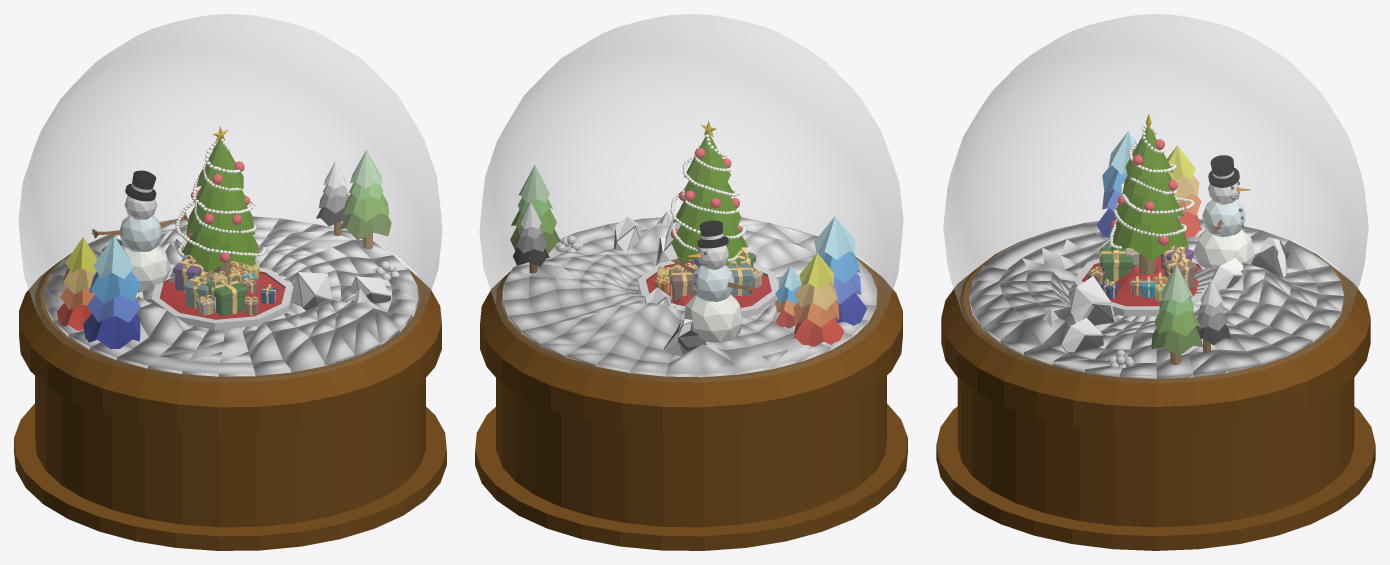
Rendered from hey.gltf.
3 renders of one model, left to right at view 1: azimuth 30°, elevation 25°; view 2: azimuth 150°, elevation 25°; view 3: azimuth 270°, elevation 25°, orthographic.
Visible parts, largest first — view 1: Sphere, Cylinder.002, Circle, Cone.021, Cylinder.001, Circle.1007, Cylinder.004, Cone.010, Circle.1010, Circle.1011, Cone.016, Circle.1013 (+7 smaller); view 2: Sphere, Cylinder.002, Circle, Cylinder.001, Cone.010, Cone.021, Cylinder.004, Circle.1007, Cone.016, Circle.1011, Circle.1013, Circle.1010 (+6 smaller); view 3: Sphere, Cylinder.002, Circle, Cylinder.001, Cylinder.004, Circle.1007, Circle.1010, Cone.021, Cone.010, Icosphere.015, Circle.1011, Cone.016 (+8 smaller).
Part boxes in pixels (x1,y1,x2,y2): Sphere: [18, 14, 442, 382]; Cylinder.002: [14, 236, 446, 550]; Circle: [44, 216, 419, 376]; Cone.021: [83, 236, 141, 349]; Cylinder.001: [91, 170, 188, 292]; Circle.1007: [151, 264, 293, 329]; Cylinder.004: [339, 149, 391, 249]; Cone.010: [57, 237, 97, 330]; Circle.1010: [182, 231, 258, 271]; Circle.1011: [186, 202, 254, 244]; Cone.016: [316, 161, 348, 235]; Circle.1013: [196, 138, 243, 195]; Sphere: [479, 14, 903, 382]; Cylinder.002: [475, 227, 907, 550]; Circle: [502, 214, 877, 377]; Cylinder.001: [671, 220, 754, 342]; Cone.010: [793, 253, 844, 346]; Cone.021: [814, 216, 867, 325]; Cylinder.004: [510, 165, 560, 254]; Circle.1007: [638, 259, 778, 317]; Cone.016: [513, 202, 549, 273]; Circle.1011: [672, 196, 741, 237]; Circle.1013: [684, 132, 730, 188]; Circle.1010: [671, 224, 747, 265]; Sphere: [943, 14, 1368, 382]; Cylinder.002: [936, 241, 1375, 550]; Circle: [969, 219, 1344, 378]; Cylinder.001: [1194, 155, 1254, 268]; Cylinder.004: [1151, 265, 1203, 365]; Circle.1007: [1073, 256, 1207, 316]; Circle.1010: [1111, 216, 1188, 260]; Cone.021: [1096, 131, 1136, 237]; Cone.010: [1167, 145, 1201, 237]; Icosphere.015: [1070, 276, 1115, 325]; Circle.1011: [1115, 192, 1184, 231]; Cone.016: [1196, 279, 1230, 353].
Bounding box in the file's own units: 541 × 588 × 550.
